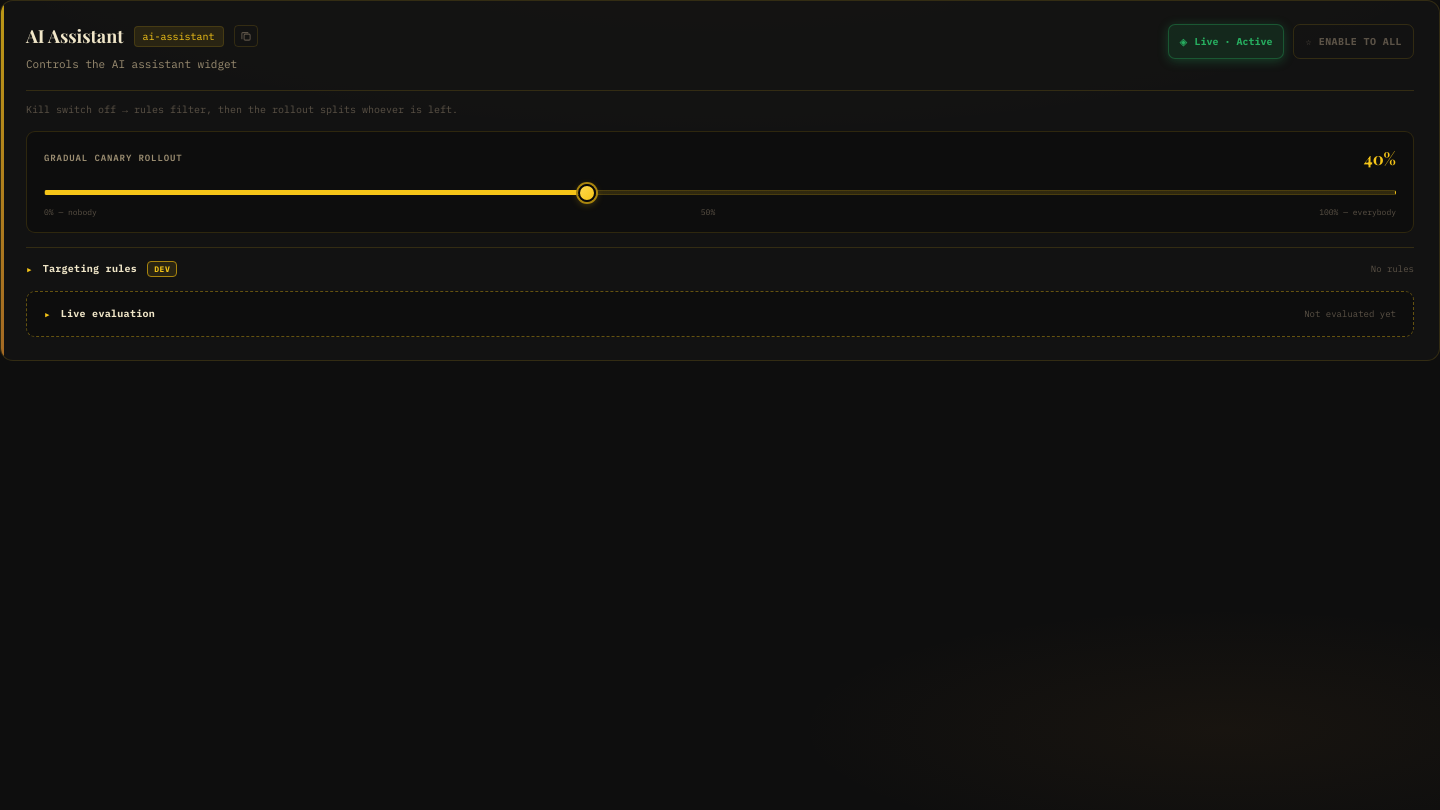
FlagCard live evaluation is minimized › closes again on a second click
The image size is (1440, 810).
Click the button "▸ Live evaluation Not evaluated yet" at (108, 314), box [44,307,1396,321]
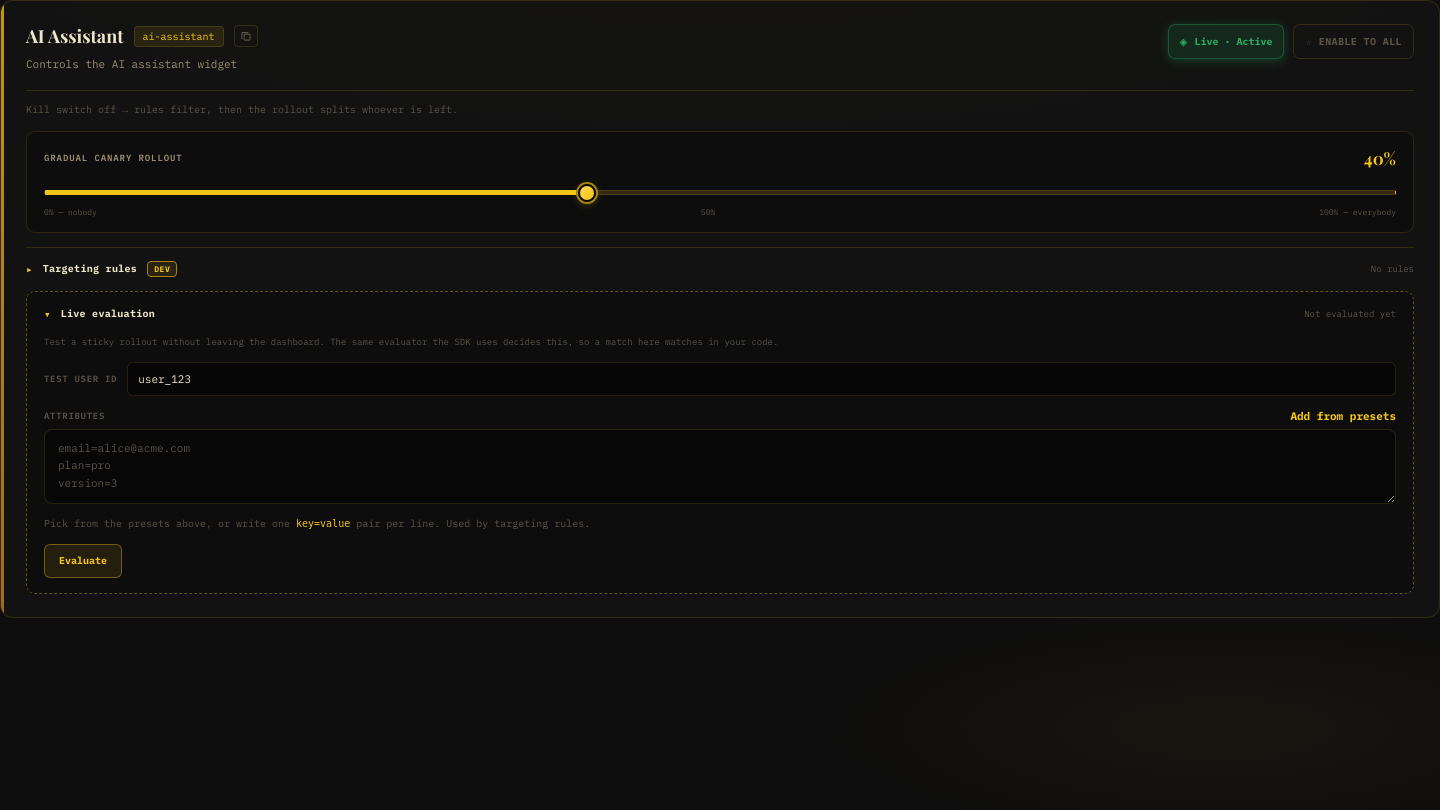
Click the button "▾ Live evaluation Not evaluated yet" at (108, 314), box [44,307,1396,321]
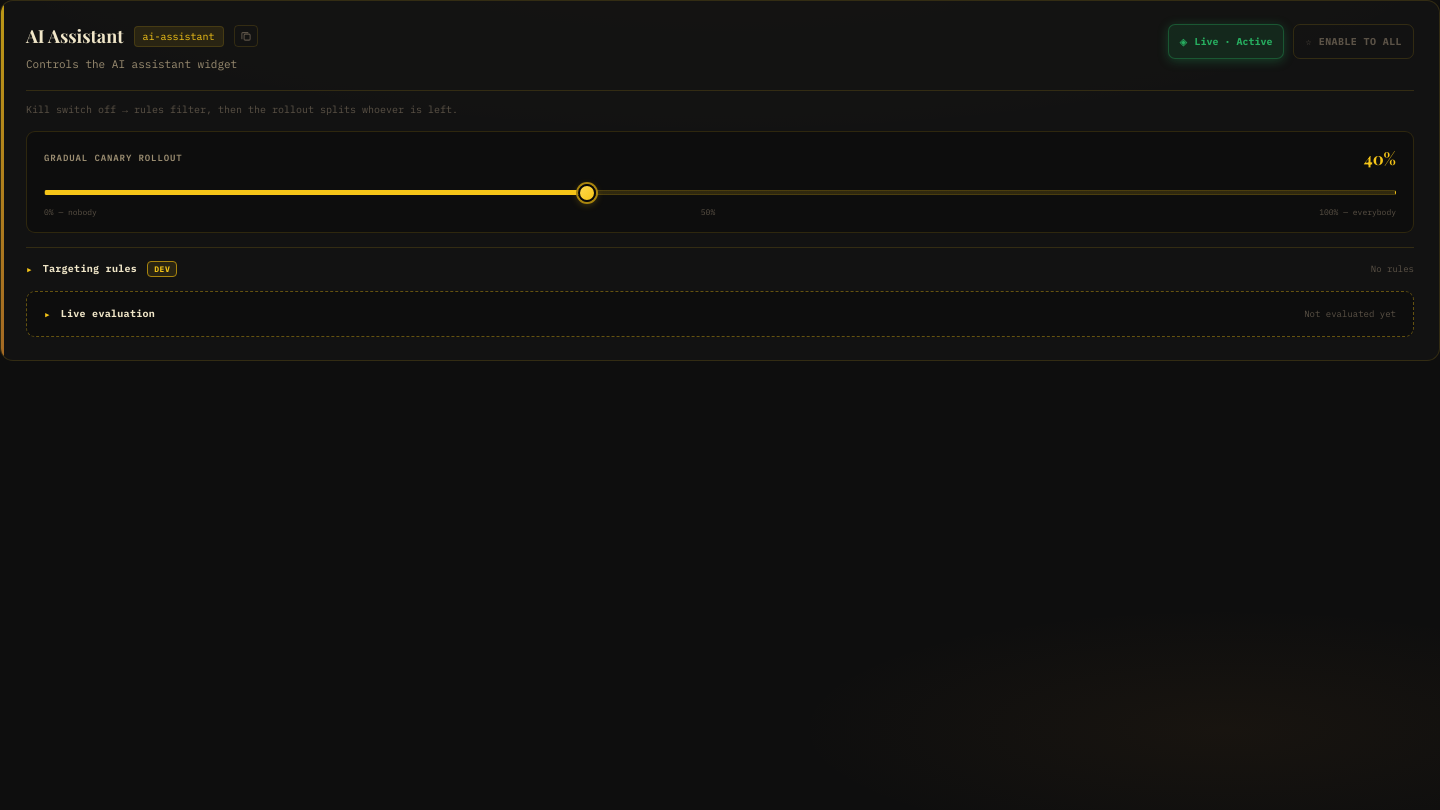
Now the button "▸ Live evaluation Not evaluated yet" is collapsed, box [44,307,1396,321]
Now the label labelled "Test user ID" is gone
